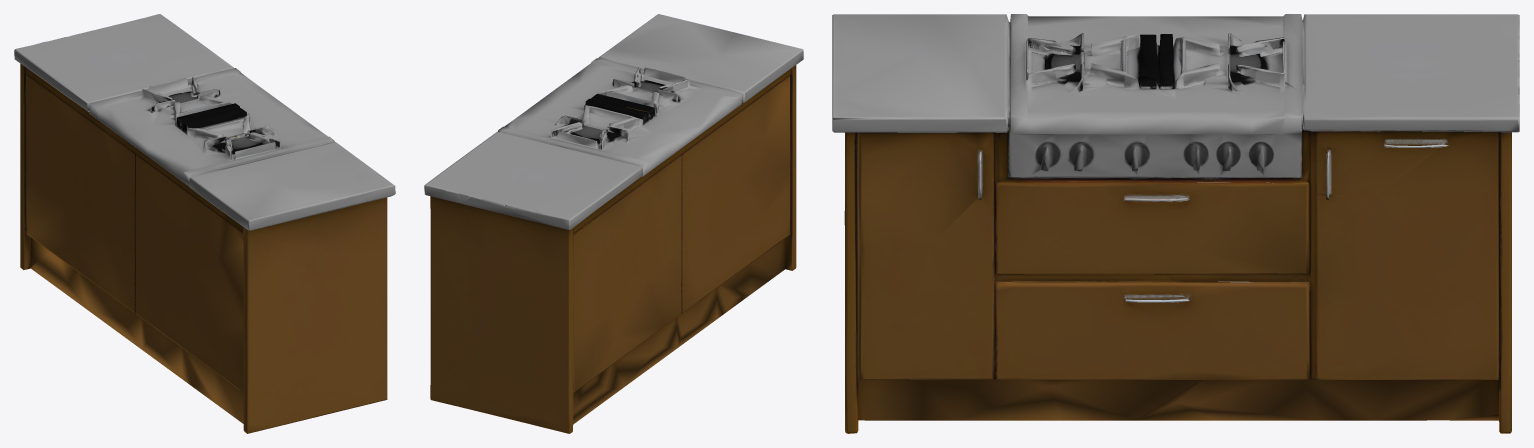
The model's file is IslaDeCocina.fbx.
3 views of the same model, side by side, from view 1: azimuth 30°, elevation 25°; view 2: azimuth 150°, elevation 25°; view 3: azimuth 270°, elevation 25° (orthographic). The views are drawn at different scales.
Parts seen in each view (by area): view 1: tripo_node_4319619e; view 2: tripo_node_4319619e; view 3: tripo_node_4319619e.
Boxes of the visible parts, box(x1,y1,x2,y2) form: tripo_node_4319619e: box(14, 14, 395, 433); tripo_node_4319619e: box(424, 14, 803, 433); tripo_node_4319619e: box(832, 14, 1519, 433).
Bounding box in the file's own units: 0.3717 × 0.5297 × 0.9998.
1 material, 1 textured.
